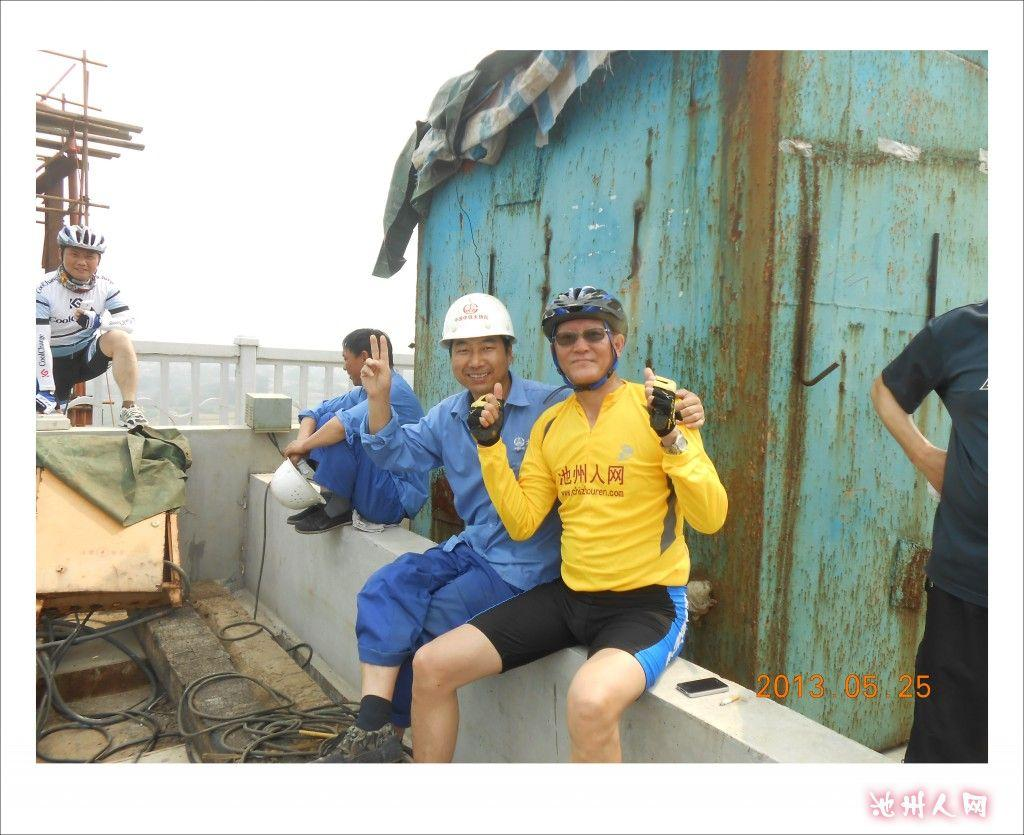helmet: (440, 294, 517, 350)
